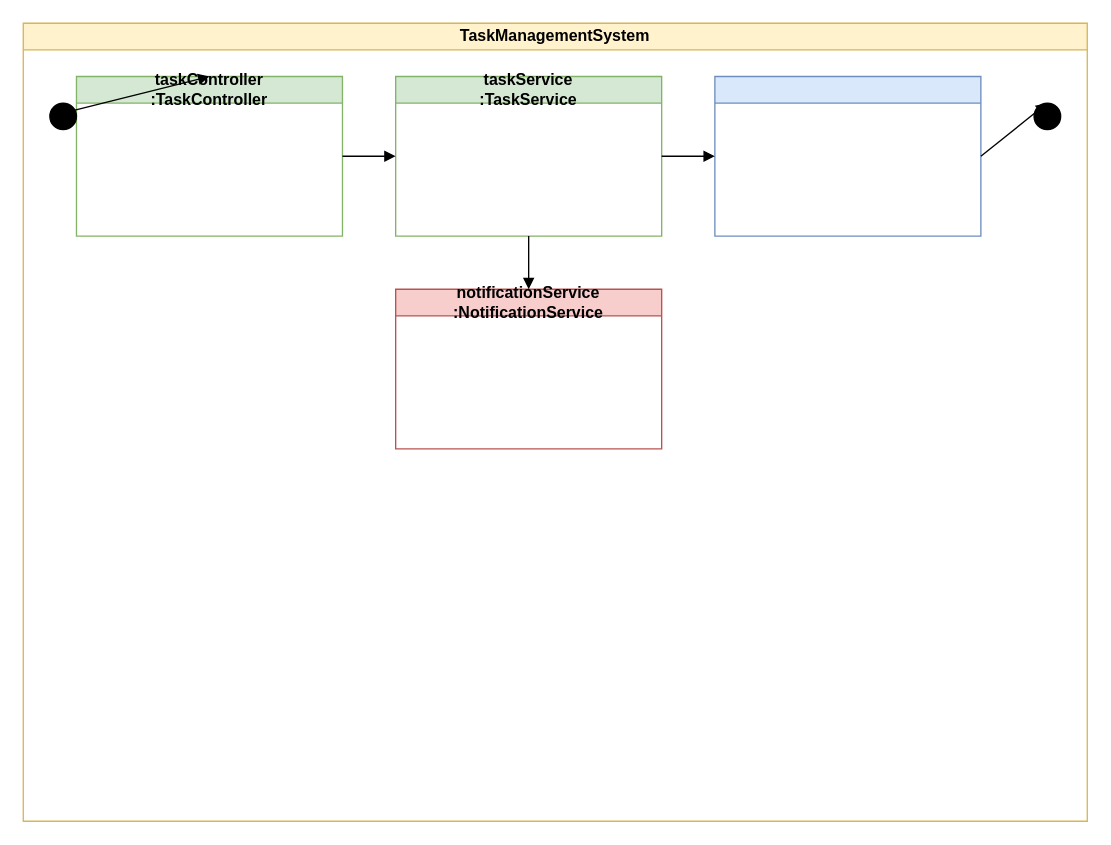
Some shapes in this 1111 by 845 pixel diagram are drawn without their labels. The centre of each missing label's shape, as x and y in pixels:
"database" belongs at point (1047, 116).
"taskRepository :TaskRepository" belongs at point (847, 155).
